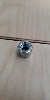Nut: (18, 40, 33, 59)
